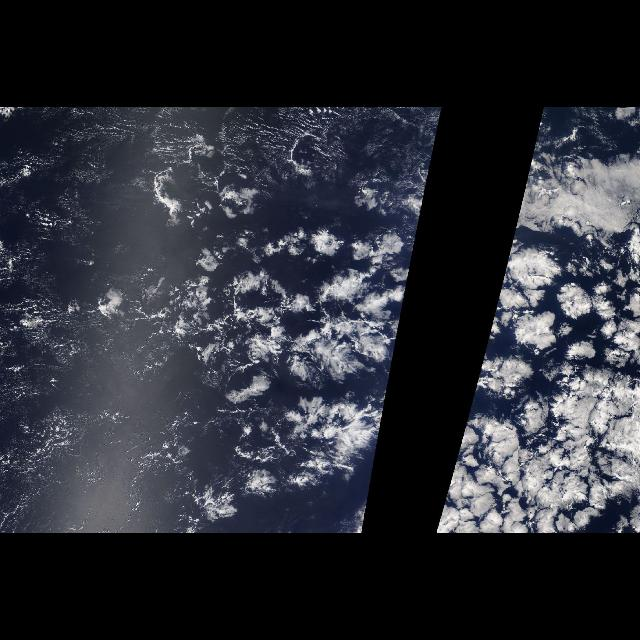Flower: (186, 216, 420, 534), (435, 221, 639, 533)
Sugar: (1, 109, 337, 532)
